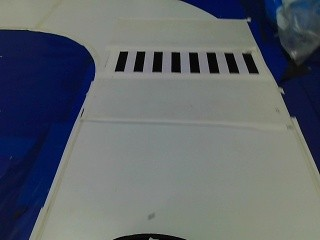crosswalk: (105, 45, 265, 76)
